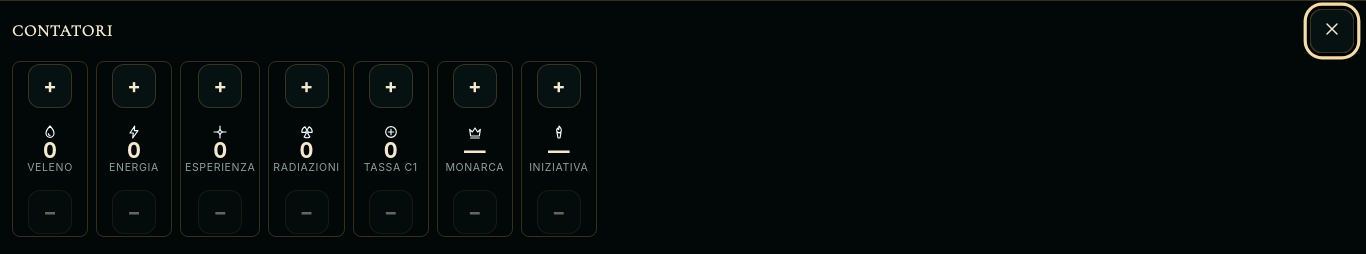
Test: Contatori drawer (R2 §5) › names the single tax without a slot number for a deck without Partner
The width and height of the screenshot is (1366, 254).
Click the button named "Aggiungi 2 alla tassa del comandante di Giocatore 1" at coordinates (391, 86), box [369,64,413,108]
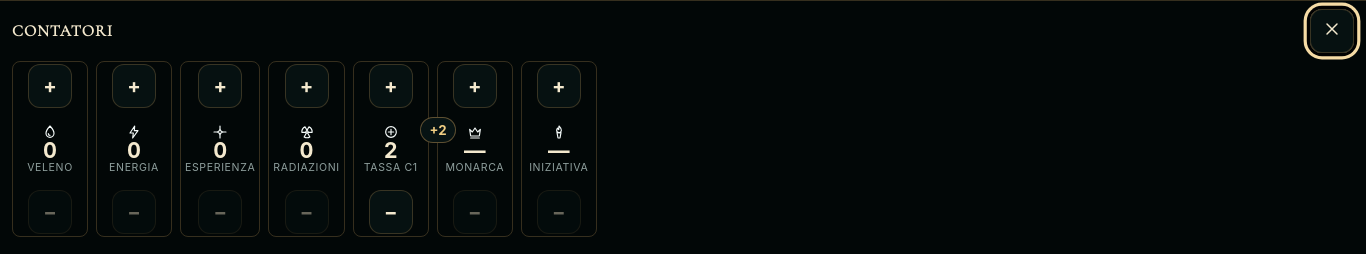
Result: the text with test id "counter-value" reads "2" at [384,137,398,163]
